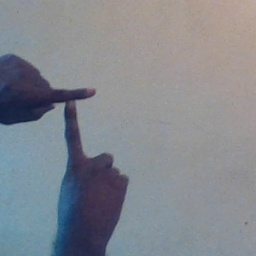T: (14, 66, 121, 171)
